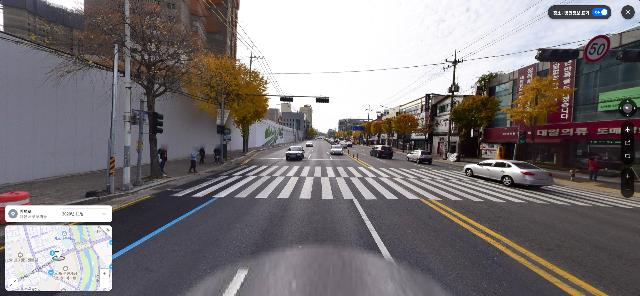ginkgo: (183, 51, 271, 160), (501, 75, 577, 163), (446, 95, 499, 162), (230, 70, 272, 152), (390, 113, 420, 153), (381, 118, 398, 146), (369, 120, 385, 145), (363, 121, 376, 145)
other: (20, 0, 241, 180), (409, 109, 445, 152)
